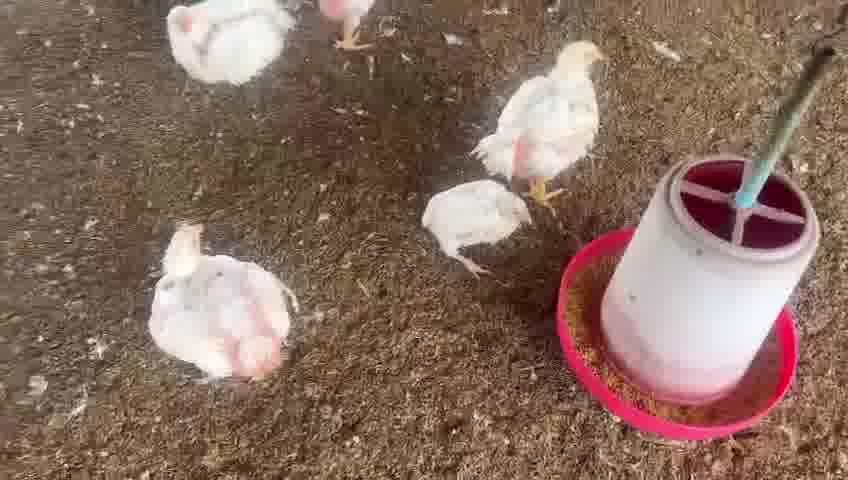AbNormal: (154, 218, 289, 381), (424, 179, 533, 277), (164, 4, 291, 83)
Normal: (486, 42, 606, 214), (316, 0, 382, 58)
